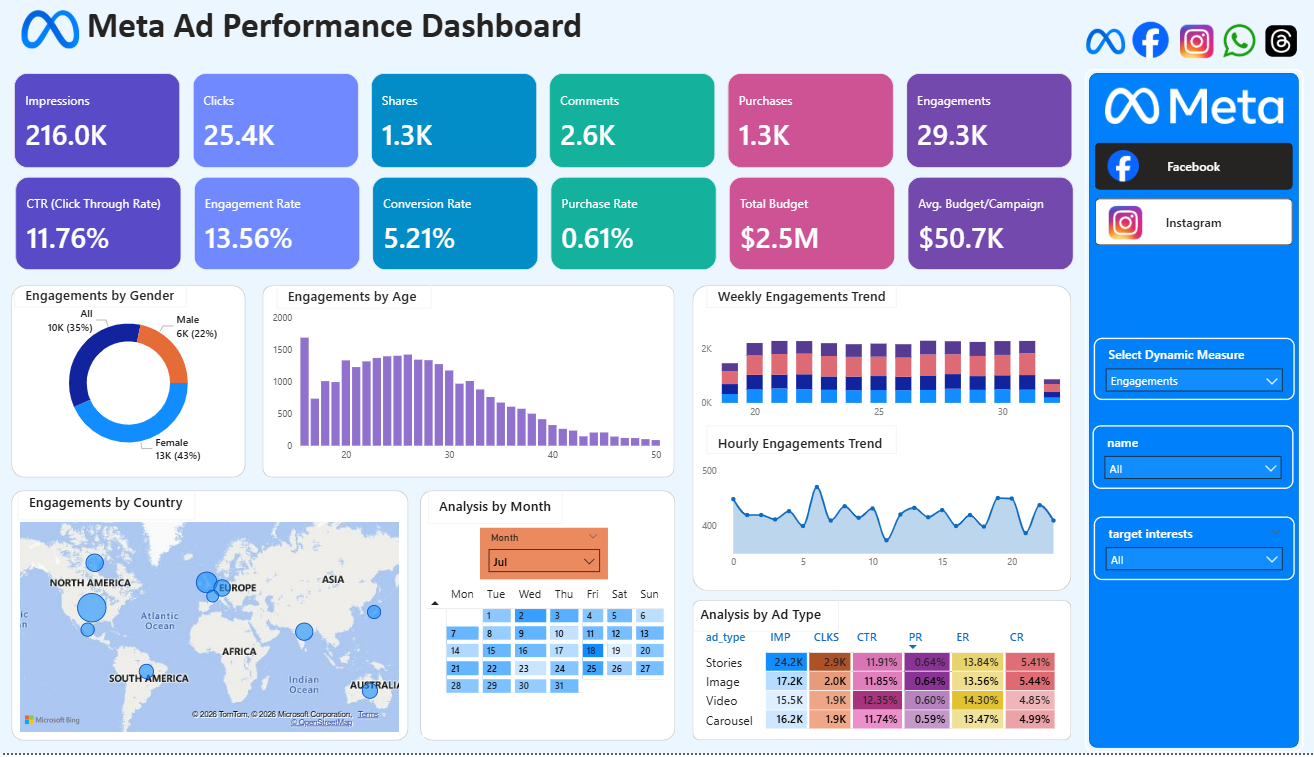

The dashboard page shown, as its layout file describes it:
{"tool":"powerbi","page":{"name":"Facebook","canvas":[1570,900],"ordinal":0},"visuals":[{"type":"textbox","box":[98.7,0,609.7,72.2],"z":0},{"type":"image","box":[20.6,13.3,78.1,45.7],"z":1000},{"type":"shape","box":[1296.1,83.9,260.7,815.9],"z":2000},{"type":"cardVisual","fields":{"Data":["ad_events.Impressions","ad_events.Clicks","ad_events.Shares","ad_events.Comments","ad_events.Purchases","ad_events.Engagements"]},"box":[0,72.2,1297.5,147.3],"z":4000},{"type":"cardVisual","fields":{"Data":["ad_events.CTR (Click Through Rate)","ad_events.Engagement Rate","ad_events.Conversion Rate","ad_events.Purchase Rate","ad_events.Total Budget","ad_events.Avg. Budget per Compaign"]},"box":[1.5,195.9,1297.5,145.8],"z":5000},{"type":"slicer","fields":{"Values":["Select Dynamic Measure.Select Dynamic Measure"]},"box":[1306.6,403.7,239.9,74.5],"z":6000},{"type":"shape","box":[13.3,341.7,279.8,229.8],"z":7000},{"type":"donutChart","fields":{"Y":["ad_events.Impressions"],"Category":["ads.target_gender"]},"box":[20.9,353.1,265.2,210.1],"z":8000},{"type":"cardVisual","fields":{"Data":["ads.Gender Title"]},"box":[0,316.7,240.1,69.2],"z":9000},{"type":"shape","box":[313.7,341.7,491.9,229.8],"z":10000},{"type":"columnChart","fields":{"Y":["ad_events.Impressions"],"Category":["users.user_age"]},"box":[321.1,366.7,474.2,194.4],"z":11000},{"type":"cardVisual","fields":{"Data":["campaigns.Age Title"]},"box":[313.7,318.1,219.4,69.2],"z":12000},{"type":"shape","box":[13.3,586.2,474.2,299],"z":13000},{"type":"map","fields":{"Size":["ad_events.Impressions"],"Category":["users.country"]},"box":[19.1,620,462.5,260.7],"z":14000},{"type":"cardVisual","fields":{"Data":["ads.Map Title"]},"box":[4.5,556.7,246.3,83.6],"z":15000},{"type":"shape","box":[500.8,586.2,304.9,299],"z":16000},{"type":"pivotTable","fields":{"Rows":["Calendar Table.Week Number"],"Columns":["Calendar Table.Day Name"],"Values":["Min(Calendar Table.Day Number)"]},"box":[505.2,693.7,296,187],"z":17000},{"type":"slicer","fields":{"Values":["Calendar Table.Month"]},"box":[572.9,631.8,153.2,61.9],"z":18000},{"type":"cardVisual","fields":{"Data":["Calendar Table.Calendar Title"]},"box":[494,561.2,195.5,83.6],"z":19000},{"type":"shape","box":[826.9,341.8,452.2,365],"z":20000},{"type":"columnChart","fields":{"Y":["ad_events.Impressions"],"Category":["Calendar Table.Week Number"],"Series":["ads.ad_type"]},"box":[832.8,371.6,440.3,138.8],"z":21000},{"type":"cardVisual","fields":{"Data":["Calendar Table.Weekly Title"]},"box":[826.9,317.9,261.2,68.7],"z":22000},{"type":"areaChart","fields":{"Y":["ad_events.Impressions"],"Category":["ad_events.Event Hour"]},"box":[832.8,549.3,440.3,140.3],"z":23000},{"type":"cardVisual","fields":{"Data":["Calendar Table.Hourly Title"]},"box":[826.9,492.5,261.2,68.7],"z":24000},{"type":"shape","box":[826.9,717.9,452.2,167.2],"z":25000},{"type":"pivotTable","fields":{"Rows":["ads.ad_type"],"Values":["ad_events.Impressions","ad_events.Clicks","ad_events.CTR (Click Through Rate)","ad_events.Purchase Rate","ad_events.Engagement Rate","ad_events.Conversion Rate"]},"box":[832.8,746.3,440.3,134.3],"z":26000},{"type":"cardVisual","fields":{"Data":["Calendar Table.Matrix Title"]},"box":[806,689.8,213,83.4],"z":27000},{"type":"image","box":[1320,83.4,213,87.9],"z":27001},{"type":"slicer","fields":{"Values":["campaigns.name"]},"box":[1305.1,509.5,239.9,76],"z":27002},{"type":"slicer","fields":{"Values":["ads.target_interests"]},"box":[1306.6,618.3,239.9,76],"z":27003},{"type":"pageNavigator","box":[1308.1,171.3,236.9,123.7],"z":27004},{"type":"image","box":[1324.5,245.8,40.2,41.7],"z":27005},{"type":"image","box":[1323,172.8,37.2,52.1],"z":27006},{"type":"image","box":[1297,28.4,46.3,44.8],"z":27007},{"type":"image","box":[1352.2,22.4,43.3,52.2],"z":27008},{"type":"image","box":[1409,29.9,40.3,41.8],"z":27009},{"type":"image","box":[1459.7,23.9,40.3,52.2],"z":27010},{"type":"image","box":[1492.5,31.3,74.6,37.3],"z":27011}]}

Visuals, with their boxes in screenshot pixels (x1, y1, x2, y2), scaled from the page's 1570x900 canvas onto the 1314x757 screenshot:
textbox: [x1=83, y1=0, x2=593, y2=61]
image: [x1=17, y1=11, x2=83, y2=50]
shape: [x1=1085, y1=71, x2=1303, y2=756]
cardVisual - ad_events.Impressions x ad_events.Clicks: [x1=0, y1=61, x2=1086, y2=185]
cardVisual - ad_events.CTR (Click Through Rate) x ad_events.Engagement Rate: [x1=1, y1=165, x2=1087, y2=287]
slicer - Select Dynamic Measure.Select Dynamic Measure: [x1=1094, y1=340, x2=1294, y2=402]
shape: [x1=11, y1=287, x2=245, y2=481]
donutChart - ad_events.Impressions x ads.target_gender: [x1=17, y1=297, x2=239, y2=474]
cardVisual - ads.Gender Title: [x1=0, y1=266, x2=201, y2=325]
shape: [x1=263, y1=287, x2=674, y2=481]
columnChart - ad_events.Impressions x users.user_age: [x1=269, y1=308, x2=666, y2=472]
cardVisual - campaigns.Age Title: [x1=263, y1=268, x2=446, y2=326]
shape: [x1=11, y1=493, x2=408, y2=745]
map - ad_events.Impressions x users.country: [x1=16, y1=521, x2=403, y2=741]
cardVisual - ads.Map Title: [x1=4, y1=468, x2=210, y2=539]
shape: [x1=419, y1=493, x2=674, y2=745]
pivotTable - Calendar Table.Week Number x Calendar Table.Day Name: [x1=423, y1=583, x2=671, y2=741]
slicer - Calendar Table.Month: [x1=479, y1=531, x2=608, y2=583]
cardVisual - Calendar Table.Calendar Title: [x1=413, y1=472, x2=577, y2=542]
shape: [x1=692, y1=287, x2=1071, y2=594]
columnChart - ad_events.Impressions x Calendar Table.Week Number: [x1=697, y1=313, x2=1066, y2=429]
cardVisual - Calendar Table.Weekly Title: [x1=692, y1=267, x2=911, y2=325]
areaChart - ad_events.Impressions x ad_events.Event Hour: [x1=697, y1=462, x2=1066, y2=580]
cardVisual - Calendar Table.Hourly Title: [x1=692, y1=414, x2=911, y2=472]
shape: [x1=692, y1=604, x2=1071, y2=744]
pivotTable - ads.ad_type x ad_events.Impressions: [x1=697, y1=628, x2=1066, y2=741]
cardVisual - Calendar Table.Matrix Title: [x1=675, y1=580, x2=853, y2=650]
image: [x1=1105, y1=70, x2=1283, y2=144]
slicer - campaigns.name: [x1=1092, y1=429, x2=1293, y2=492]
slicer - ads.target_interests: [x1=1094, y1=520, x2=1294, y2=584]
pageNavigator: [x1=1095, y1=144, x2=1293, y2=248]
image: [x1=1109, y1=207, x2=1142, y2=242]
image: [x1=1107, y1=145, x2=1138, y2=189]
image: [x1=1086, y1=24, x2=1124, y2=62]
image: [x1=1132, y1=19, x2=1168, y2=63]
image: [x1=1179, y1=25, x2=1213, y2=60]
image: [x1=1222, y1=20, x2=1255, y2=64]
image: [x1=1249, y1=26, x2=1312, y2=58]
